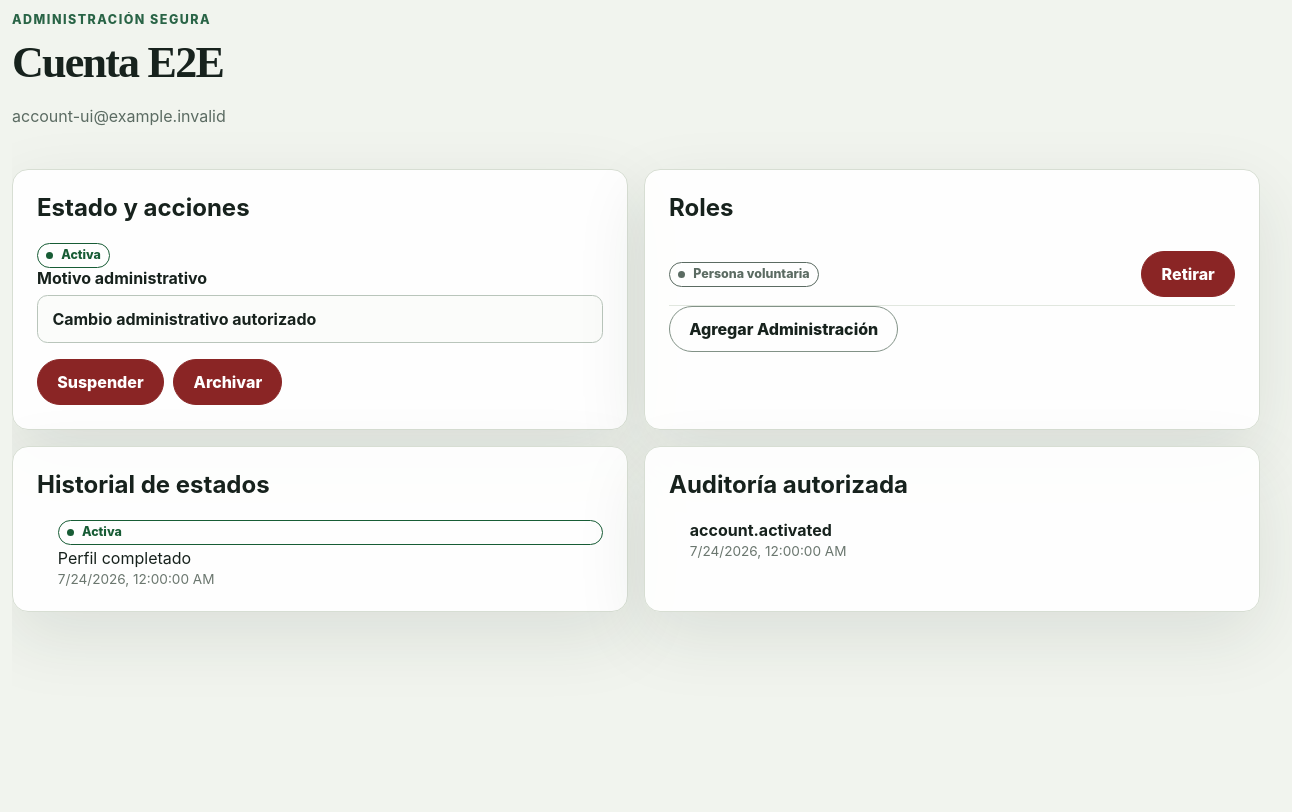
Test: AccountDetailPage › renders authorized history and confirms role assignment
The width and height of the screenshot is (1292, 812).
Check: the text "account.activated" is shown, box [690,520,832,540]
Step 1. Click the button "Agregar Administración" → coordinates (784, 329), box [669,306,898,352]
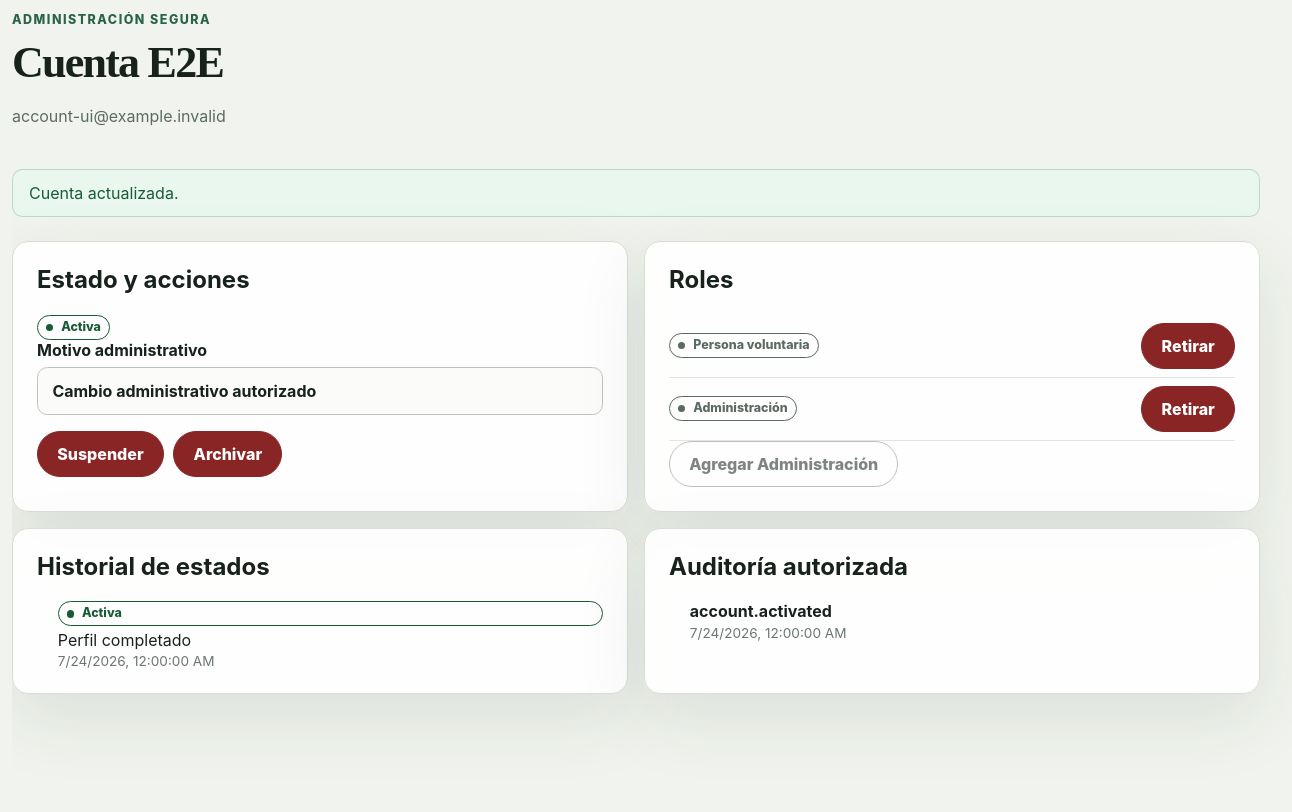
Check: the text "Cuenta actualizada." is shown, box [12,170,1260,217]
